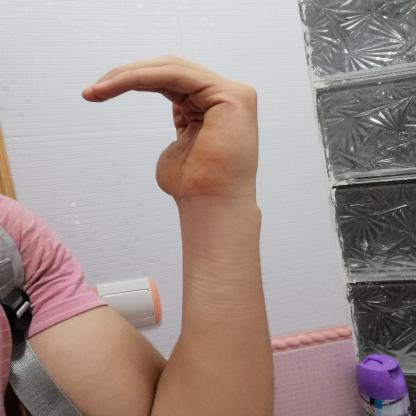HAA: (60, 44, 285, 215)
